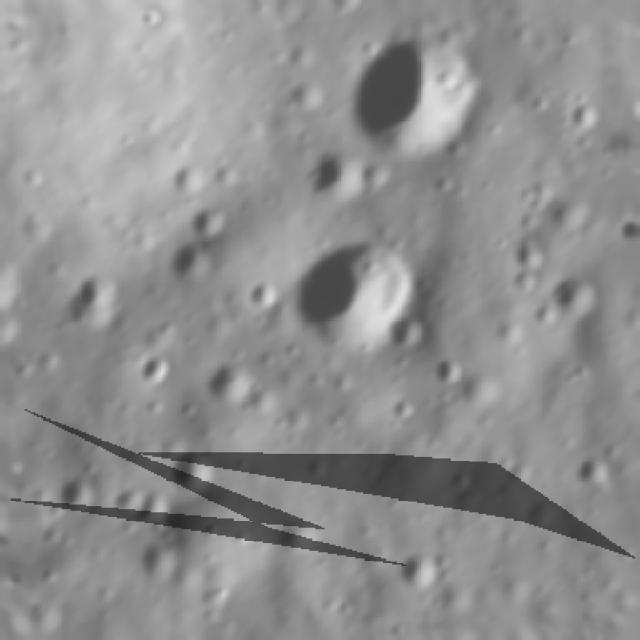crater: (346, 30, 506, 170), (287, 233, 438, 364), (203, 355, 277, 408), (70, 273, 121, 333), (167, 444, 225, 496), (306, 154, 363, 201), (568, 452, 618, 494), (136, 341, 179, 387), (557, 279, 601, 323), (52, 480, 98, 522), (506, 237, 549, 278), (427, 350, 467, 392), (398, 552, 436, 596), (188, 206, 232, 242), (564, 96, 601, 136), (381, 396, 424, 430), (248, 280, 277, 315), (0, 310, 23, 348), (200, 520, 228, 546), (137, 17, 172, 37), (616, 217, 633, 246), (431, 0, 452, 3), (374, 0, 398, 2)
